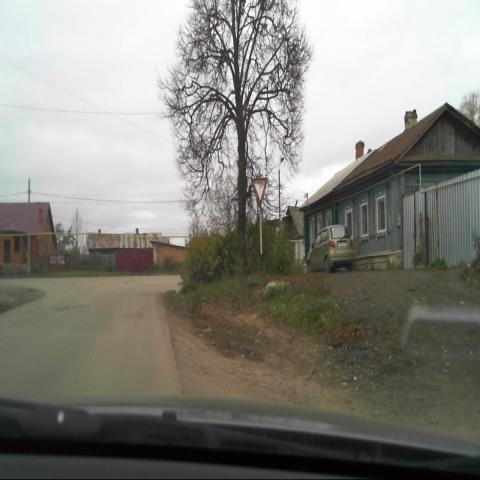2_4: (252, 177, 269, 203)
